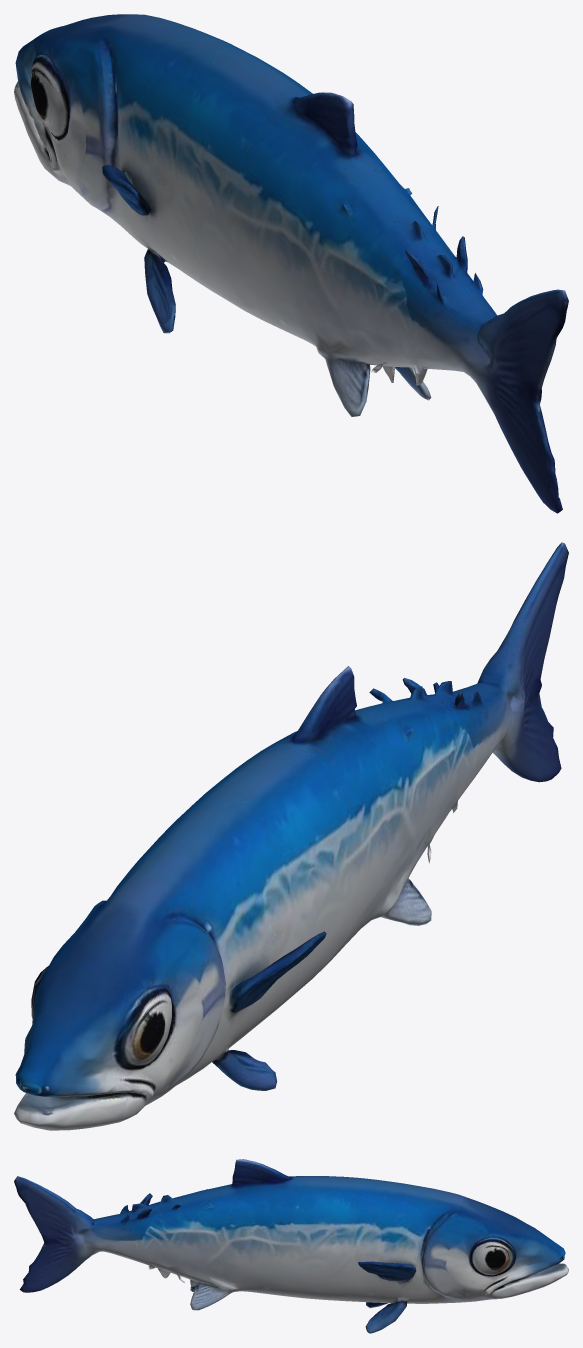
The model's file is saury.glb.
3 renders of one model, top to bottom at view 1: azimuth 30°, elevation 25°; view 2: azimuth 150°, elevation 25°; view 3: azimuth 270°, elevation 25°, orthographic. The views are drawn at different scales.
Visible parts, largest first — view 1: tripo_node_94f22336-4ab5-47af-b86f-ac0b1a89c628; view 2: tripo_node_94f22336-4ab5-47af-b86f-ac0b1a89c628; view 3: tripo_node_94f22336-4ab5-47af-b86f-ac0b1a89c628.
Boxes of the visible parts, x1,y1,x2,y2 form: tripo_node_94f22336-4ab5-47af-b86f-ac0b1a89c628: [14, 14, 568, 513]; tripo_node_94f22336-4ab5-47af-b86f-ac0b1a89c628: [14, 542, 568, 1130]; tripo_node_94f22336-4ab5-47af-b86f-ac0b1a89c628: [14, 1159, 568, 1333].
Bounding box in the file's own units: 0.2055 × 0.3211 × 0.9997.
1 material, 1 textured.
